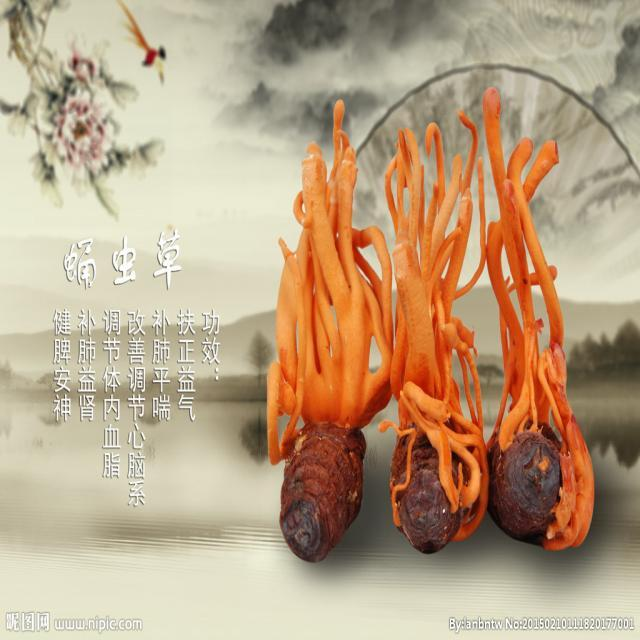Cordyceps militaris: (267, 97, 388, 565), (481, 87, 596, 549), (383, 111, 490, 556)
